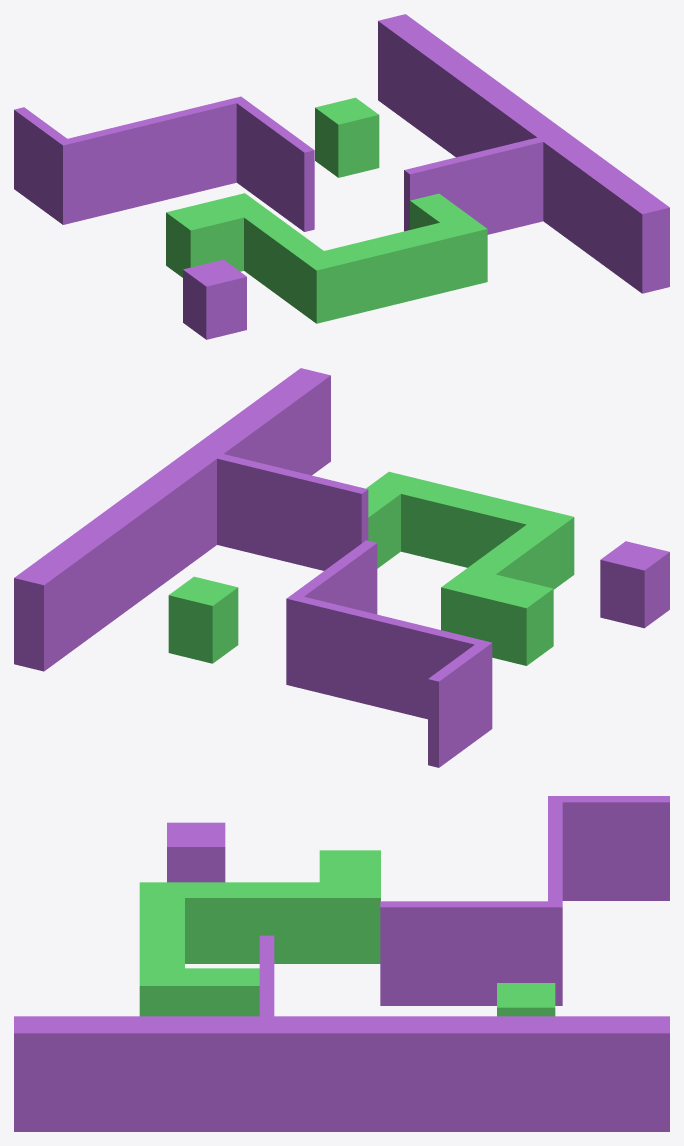
File: BushPlatformIdea.fbx
3 renders of one model, top to bottom at view 1: azimuth 30°, elevation 25°; view 2: azimuth 150°, elevation 25°; view 3: azimuth 270°, elevation 25°, orthographic. The views are drawn at different scales.
Visible parts, largest first — view 1: Cube.266, Cube.258, Cube.263, Cube.260, Cube.270; view 2: Cube.266, Cube.258, Cube.263, Cube.260, Cube.270; view 3: Cube.258, Cube.263, Cube.266, Cube.270, Cube.260.
Part boxes in pixels (x1,y1,x2,y2): Cube.266: (166, 137, 543, 323); Cube.258: (378, 14, 669, 293); Cube.263: (14, 96, 314, 231); Cube.260: (315, 97, 379, 177); Cube.270: (183, 259, 246, 339); Cube.266: (217, 454, 574, 665); Cube.258: (14, 368, 330, 671); Cube.263: (286, 540, 492, 767); Cube.260: (168, 576, 238, 663); Cube.270: (600, 541, 669, 628); Cube.258: (14, 1016, 669, 1131); Cube.263: (380, 796, 669, 1005); Cube.266: (139, 850, 380, 1016); Cube.270: (167, 822, 225, 882); Cube.260: (497, 983, 555, 1016).
Size of the model in its own units: 790 by 149 by 900.
